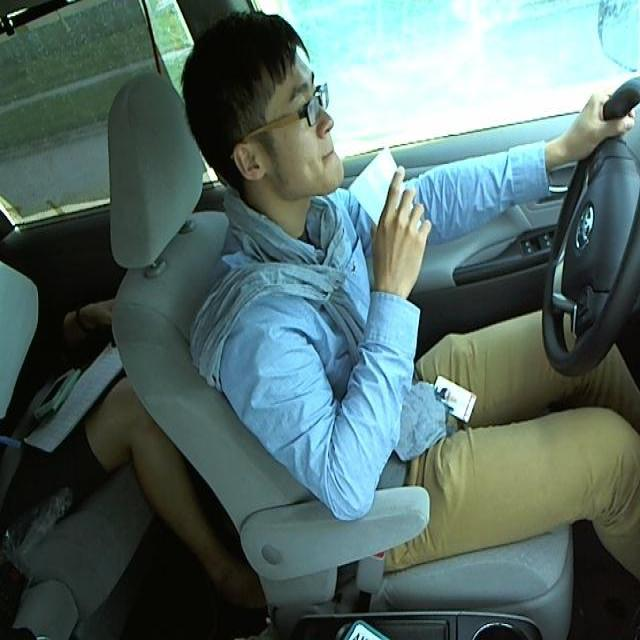Seatbelt: (350, 145, 414, 239)
